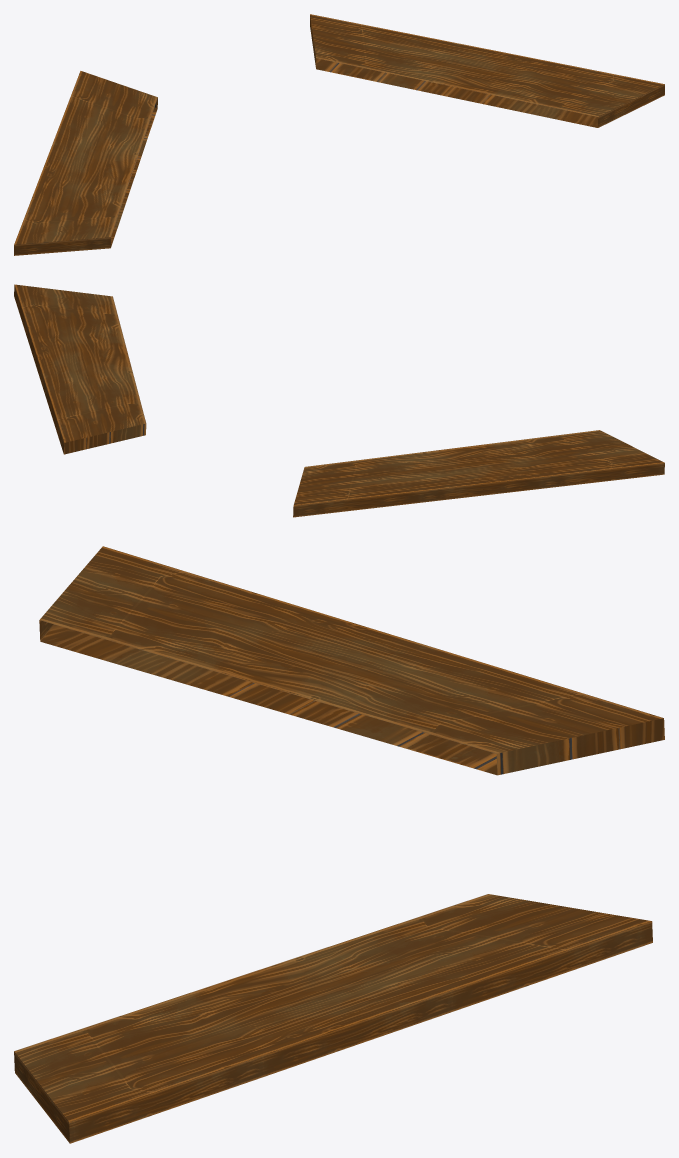
3 renders of one model, top to bottom at view 1: azimuth 30°, elevation 25°; view 2: azimuth 150°, elevation 25°; view 3: azimuth 270°, elevation 25°, orthographic. The views are drawn at different scales.
Parts seen in each view (by area): view 1: Cube.1989; view 2: Cube.1989; view 3: Cube.1989.
Boxes of the visible parts, <box> form: Cube.1989: <box>14,14,664,255</box>; Cube.1989: <box>14,284,664,517</box>; Cube.1989: <box>14,546,664,1143</box>.
Bounding box in the file's own units: 2276 × 98.12 × 1051.
Materials: 1 (1 with a texture image).
